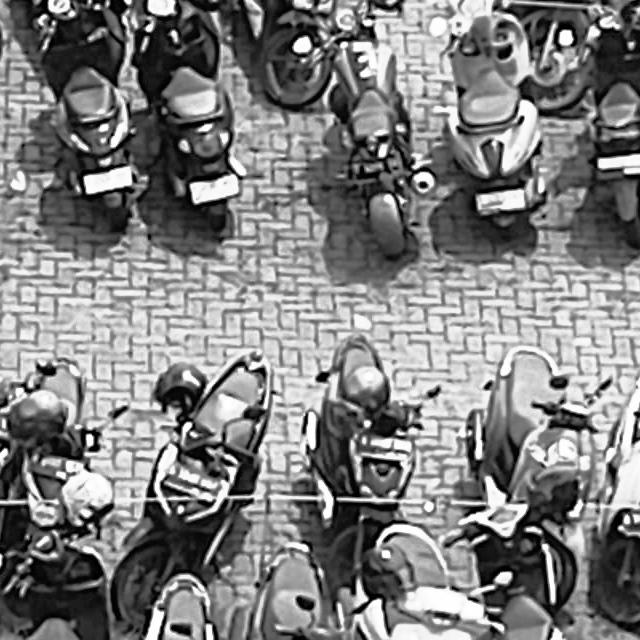motor: (101, 344, 294, 621), (287, 308, 444, 560), (465, 332, 597, 601), (8, 346, 122, 626), (312, 0, 433, 261), (437, 0, 565, 240), (29, 0, 154, 244), (134, 0, 251, 233), (446, 476, 595, 640), (0, 476, 115, 640), (569, 0, 640, 255), (354, 508, 486, 640), (583, 338, 640, 636), (455, 0, 609, 107), (228, 0, 349, 101), (244, 524, 348, 640), (106, 566, 236, 640)
